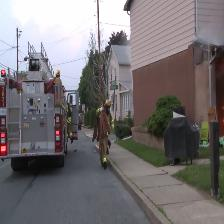fire: (218, 95, 224, 136)
smoke: (193, 23, 224, 67)
